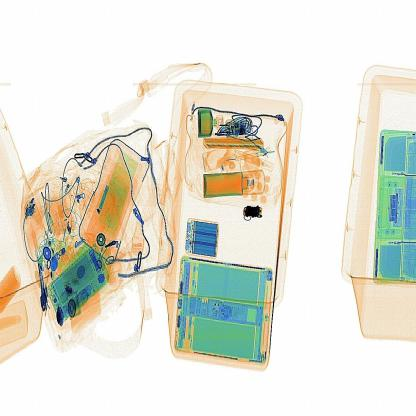scissors: (236, 200, 269, 224)
